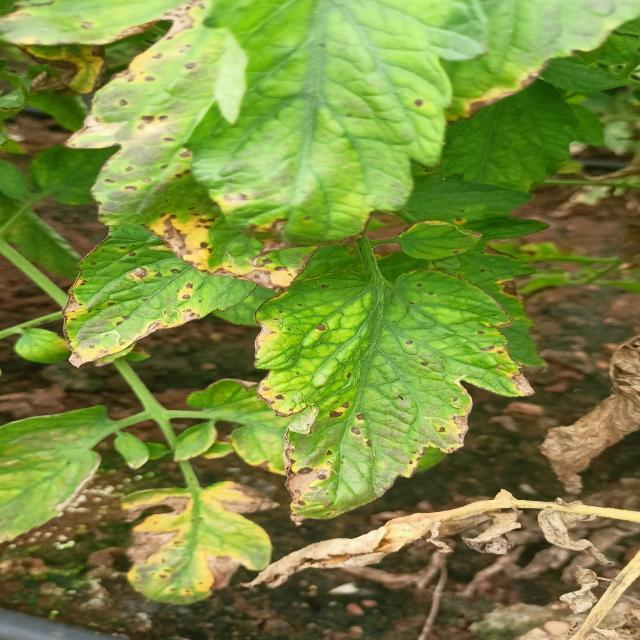Tomato mosaic virus leaf: (245, 282, 536, 528), (51, 203, 317, 374)
